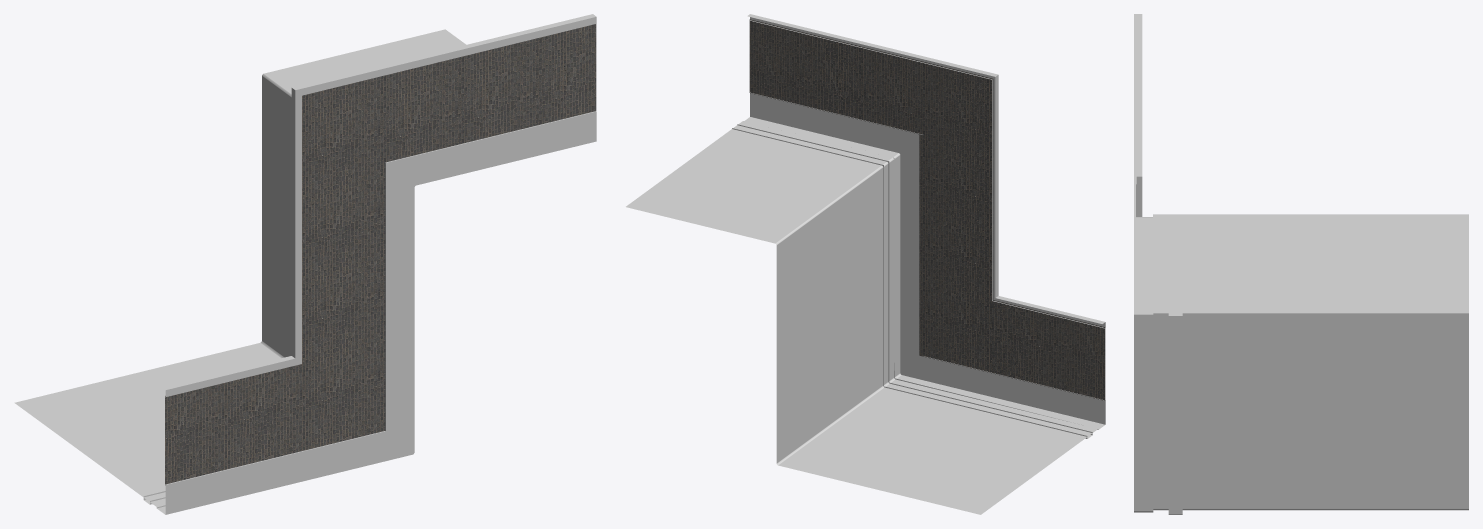
The model's file is env_112_06_WideBridge_ctf5.glb.
The picture shows the model from 3 angles, left to right: view 1: azimuth 30°, elevation 25°; view 2: azimuth 150°, elevation 25°; view 3: azimuth 270°, elevation 25°; orthographic projection. The views are drawn at different scales.
Visible parts, largest first — view 1: set_0_group_0, set_0_group_1; view 2: set_0_group_1, set_0_group_0; view 3: set_0_group_1.
Boxes of the visible parts, x1,y1,x2,y2 form: set_0_group_0: [165, 24, 596, 485]; set_0_group_1: [14, 14, 596, 514]; set_0_group_1: [626, 14, 1105, 514]; set_0_group_0: [749, 19, 1105, 400]; set_0_group_1: [1134, 14, 1468, 514].
Size of the model in its own units: 17.79 by 15.54 by 10.81.
2 materials, 1 textured.
